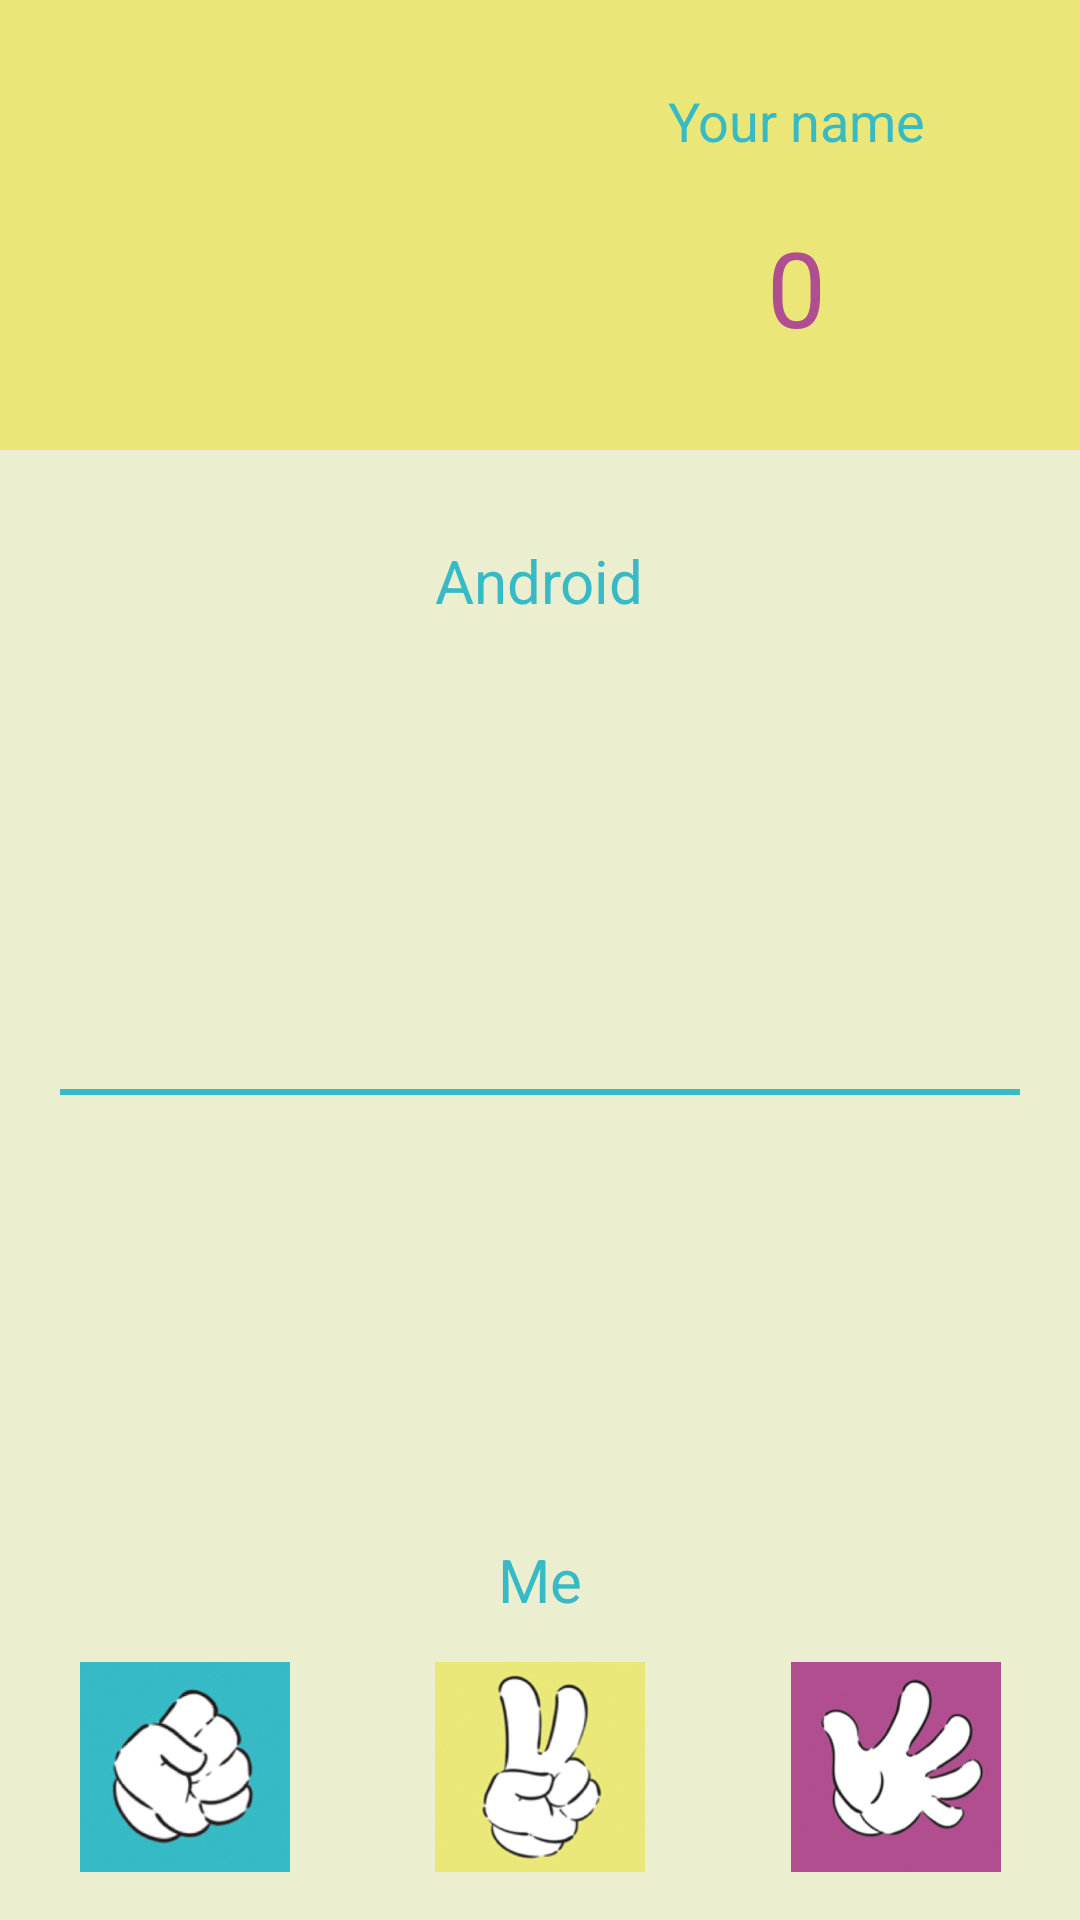

Locate icon controls on the screen. Image size 1080 × 1920, boxes as (x1, y1, x2, y2).
papper: (791, 1662, 1001, 1872)
rock: (80, 1662, 290, 1872)
scissors: (435, 1662, 645, 1872)
